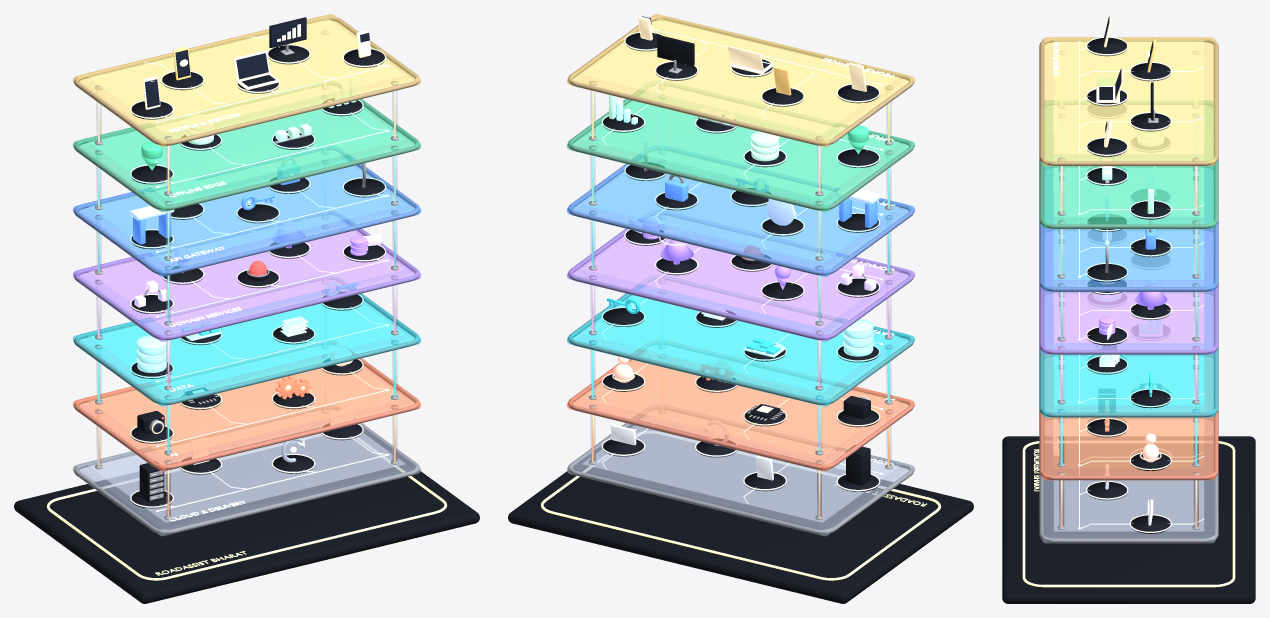
Rendered from layers.glb.
3 renders of one model, left to right at view 1: azimuth 30°, elevation 25°; view 2: azimuth 150°, elevation 25°; view 3: azimuth 270°, elevation 25°, orthographic. The views are drawn at different scales.
Parts seen in each view (by area): view 1: plinth, layer_people, layer_edge, layer_ai, layer_data, layer_cloud, layer_domain, Cube, layer_api, Cube.005, Cube.001, Cube.004 (+42 smaller); view 2: plinth, layer_people, layer_ai, layer_data, layer_edge, layer_cloud, Cube, layer_domain, layer_api, Cube.005, Cube.004, Cube.006 (+40 smaller); view 3: plinth, layer_people, Cube, layer_cloud, layer_edge, layer_data, layer_api, layer_ai, layer_domain, Cube.004, Cube.006, Cube.001 (+36 smaller).
Boxes of the visible parts, x1,y1,x2,y2 form: plinth: (14,428,479,603); layer_people: (72,14,420,147); layer_edge: (73,91,420,212); layer_ai: (72,354,420,471); layer_data: (73,288,420,406); layer_cloud: (73,423,420,536); layer_domain: (73,220,420,341); Cube: (88,18,405,133); layer_api: (73,156,420,276); Cube.005: (88,353,405,457); Cube.001: (88,92,405,198); Cube.004: (88,287,405,392); plinth: (508,421,973,603); layer_people: (567,14,915,147); layer_ai: (567,349,915,471); layer_data: (567,286,914,406); layer_edge: (567,91,914,212); layer_cloud: (567,415,914,536); Cube: (582,18,899,133); layer_domain: (567,220,914,341); layer_api: (567,156,914,276); Cube.005: (582,351,899,457); Cube.004: (582,286,899,392); Cube.006: (582,416,899,522); plinth: (1002,436,1255,603); layer_people: (1042,37,1215,166); Cube: (1053,40,1204,154); layer_cloud: (1042,419,1215,543); layer_edge: (1041,100,1216,228); layer_data: (1042,293,1215,417); layer_api: (1042,168,1215,291); layer_ai: (1042,356,1215,480); layer_domain: (1042,231,1215,354); Cube.004: (1053,343,1204,405); Cube.006: (1053,469,1204,531); Cube.001: (1053,155,1204,217).
Bounding box in the file's own units: 9.6 × 12.81 × 6.4.
